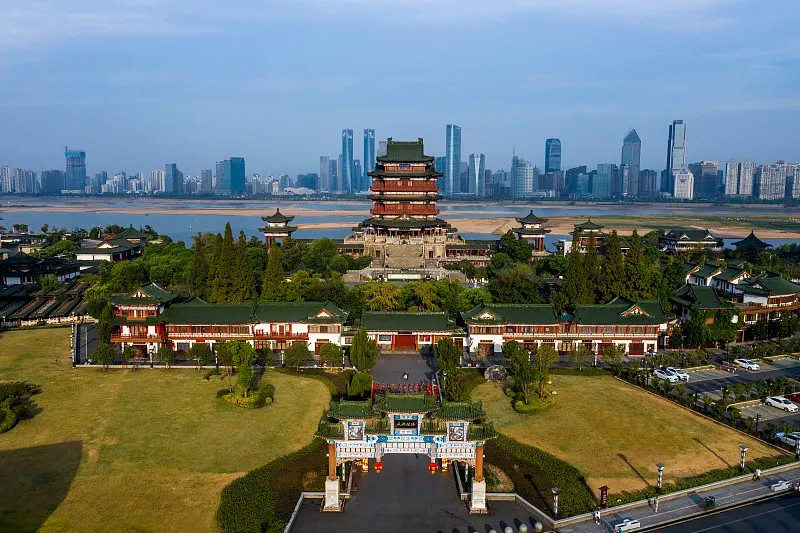Teng: (353, 138, 457, 241)
